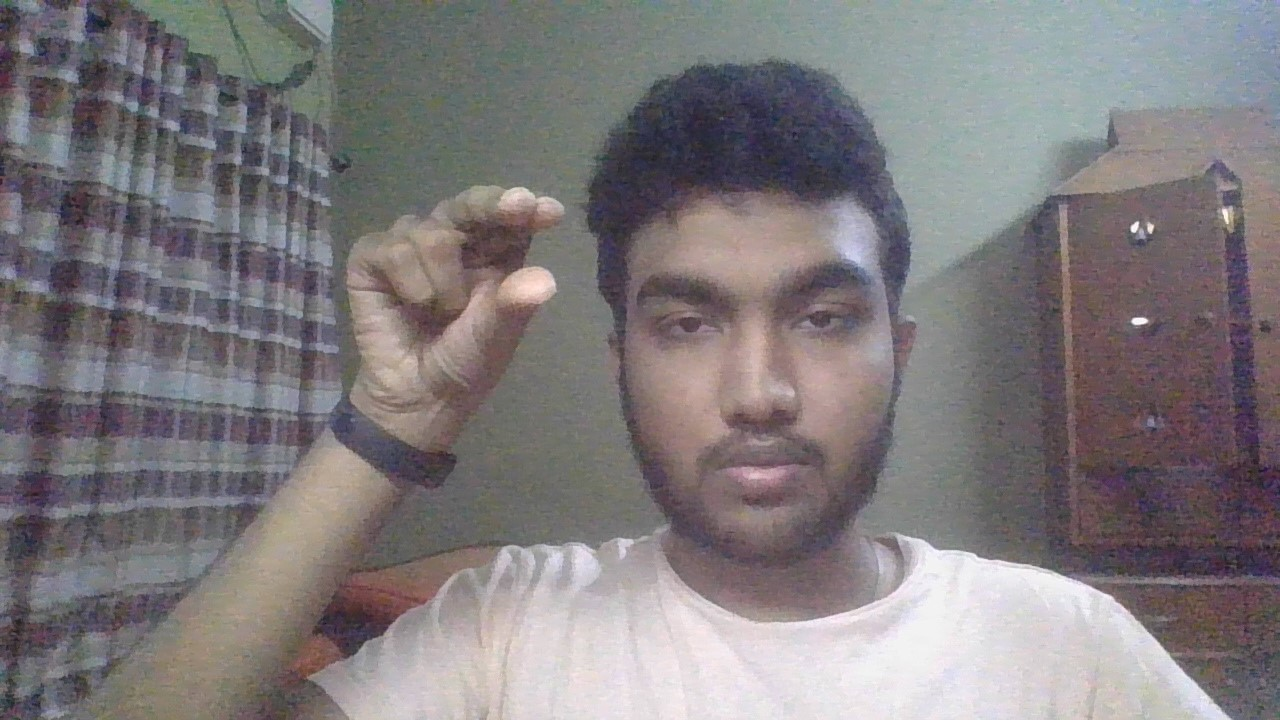No: (324, 165, 587, 451)
